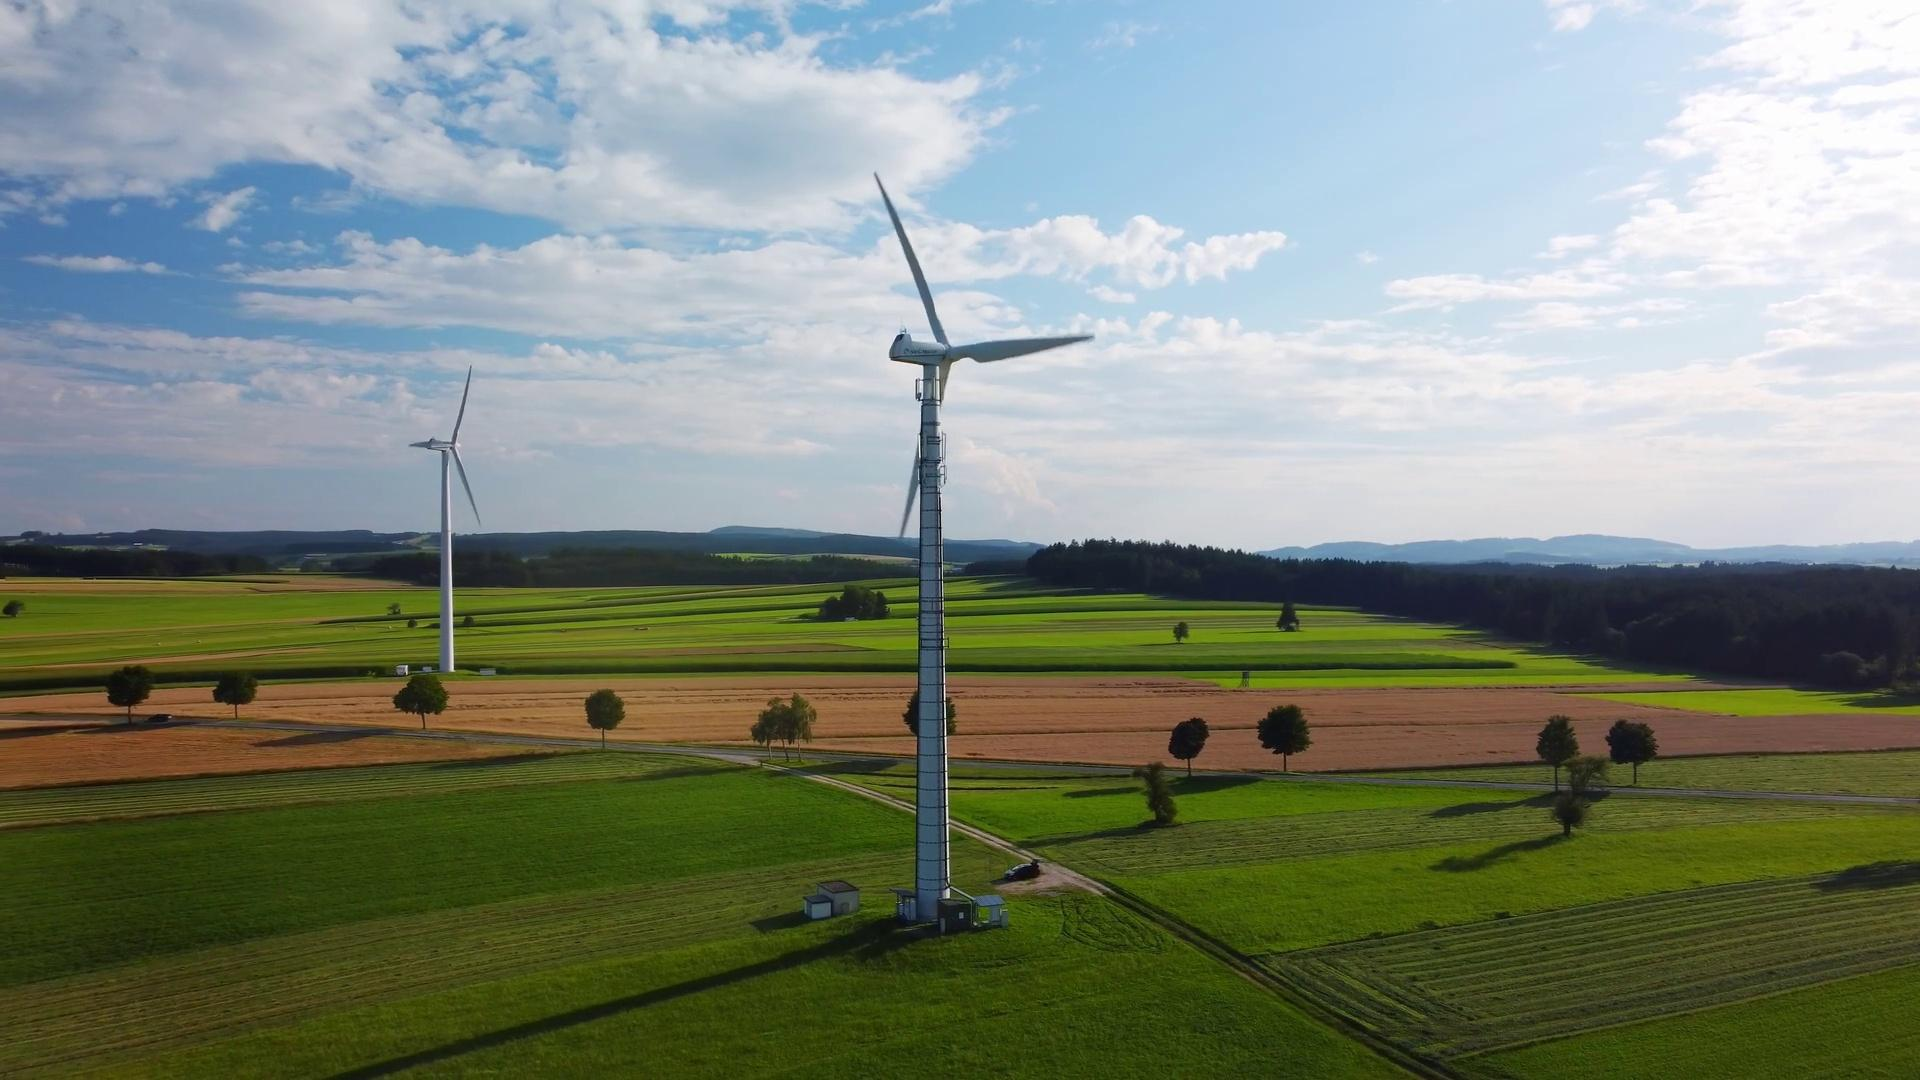turbine: (789, 119, 1097, 952), (290, 356, 427, 695)
